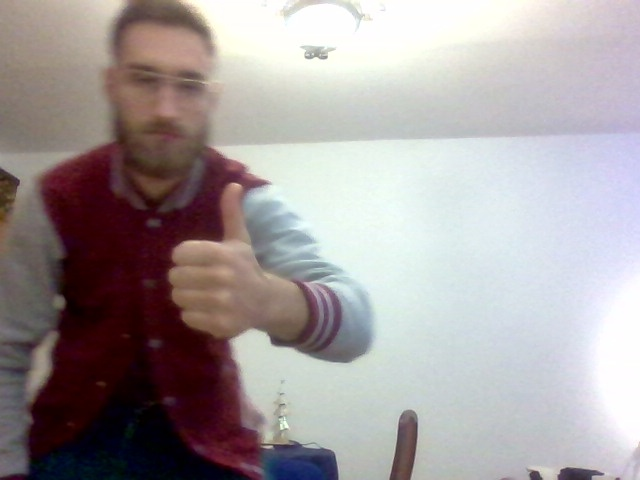ThumbsUp: (169, 182, 264, 342)
